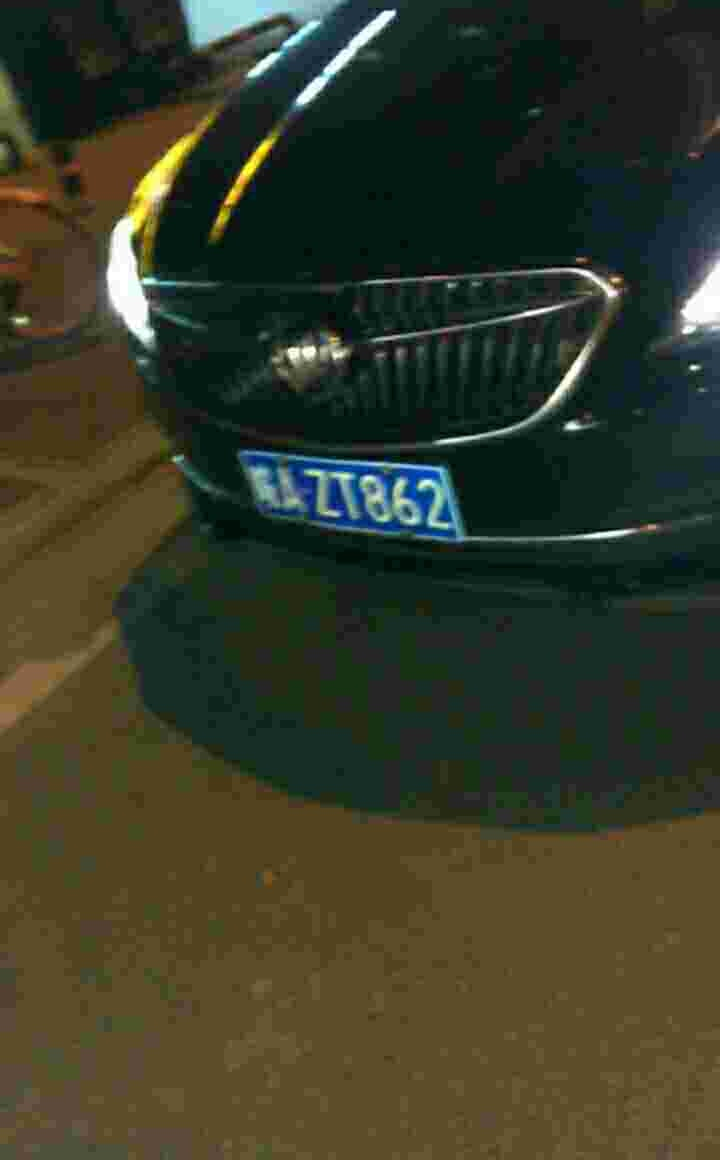license_plate: (246, 453, 468, 544)
